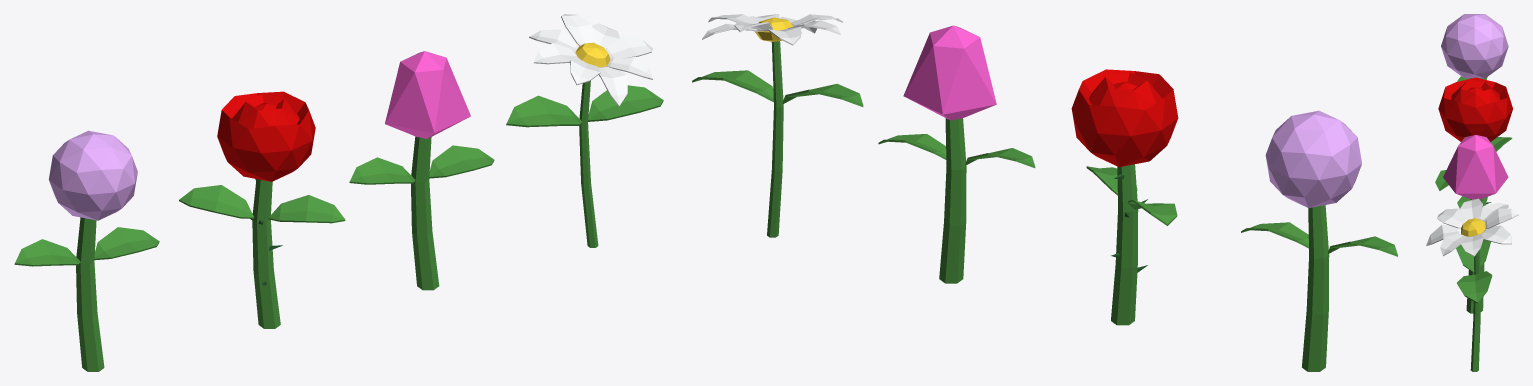
The model's file is Flowers.fbx.
3 renders of one model, left to right at view 1: azimuth 30°, elevation 25°; view 2: azimuth 150°, elevation 25°; view 3: azimuth 270°, elevation 25°, orthographic. The views are drawn at different scales.
Visible parts, largest first — view 1: Flower_2, Flower_1, Flower_3, Flower_4; view 2: Flower_2, Flower_1, Flower_3, Flower_4; view 3: Flower_4, Flower_2, Flower_1, Flower_3.
Part boxes in pixels (<box>): Flower_2: <box>179,91,345,328</box>; Flower_1: <box>14,130,159,371</box>; Flower_3: <box>349,51,494,290</box>; Flower_4: <box>506,14,663,247</box>; Flower_2: <box>1071,69,1178,325</box>; Flower_1: <box>1241,110,1397,371</box>; Flower_3: <box>878,25,1035,283</box>; Flower_4: <box>692,14,863,237</box>; Flower_4: <box>1426,198,1518,371</box>; Flower_2: <box>1435,77,1512,204</box>; Flower_1: <box>1441,14,1508,81</box>; Flower_3: <box>1443,135,1508,313</box>.
Bounding box in the file's own units: 118 × 40.76 × 19.54.
